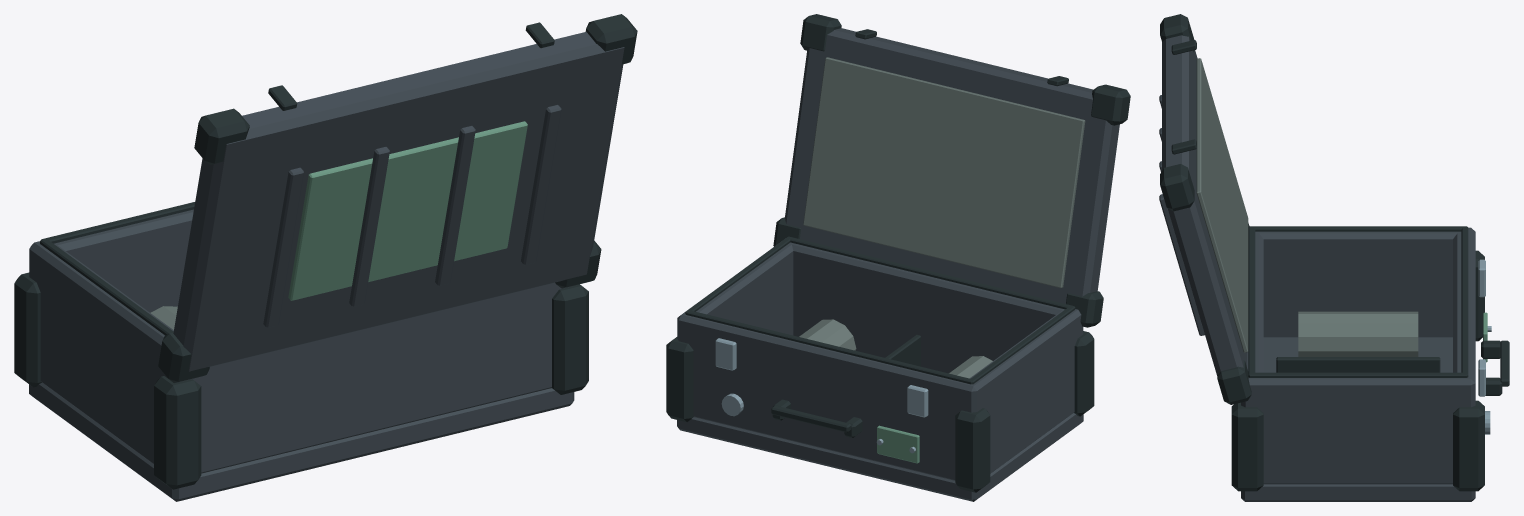
Rendered from diver_equipment_case_opened.glb.
3 views of the same model, side by side, from view 1: azimuth 30°, elevation 25°; view 2: azimuth 150°, elevation 25°; view 3: azimuth 270°, elevation 25° (orthographic). The views are drawn at different scales.
Visible parts, largest first — view 1: moving_lid, body_back_wall, moving_lid_identity, body_side_wall, body_floor, corner_pad (×3), moving_rib (×4), body_front_wall, moving_corner_cap (×3), rim_seal (×2); view 2: moving_lid_pad, body_front_wall, moving_lid, body_back_wall, body_side_wall (×2), corner_pad (×3), body_floor, rim_seal (×4), moving_corner_cap (×3), interior_cylinder_cradle (×2), latch_base (×2), dive_tag_plate (+2 smaller); view 3: body_side_wall (×2), moving_lid, moving_lid_pad, corner_pad (×3), body_floor, interior_cylinder_cradle, rim_seal (×4), moving_corner_cap (×3), body_front_wall, inner_diver_separator, body_back_wall, moving_rib (+1 smaller).
Part boxes in pixels (x1=…): moving_lid: x1=173, y1=31, x2=624, y2=371; body_back_wall: x1=163, y1=282, x2=556, y2=473; moving_lid_identity: x1=288, y1=121, x2=527, y2=300; body_side_wall: x1=29, y1=241, x2=194, y2=463; body_floor: x1=29, y1=382, x2=574, y2=501; corner_pad (×3): x1=14, y1=272, x2=588, y2=489; moving_rib (×4): x1=263, y1=105, x2=561, y2=327; body_front_wall: x1=29, y1=209, x2=193, y2=312; moving_corner_cap (×3): x1=158, y1=14, x2=637, y2=382; rim_seal (×2): x1=40, y1=202, x2=194, y2=334; moving_lid_pad: x1=803, y1=57, x2=1085, y2=287; body_front_wall: x1=679, y1=311, x2=983, y2=480; moving_lid: x1=785, y1=28, x2=1119, y2=303; body_back_wall: x1=781, y1=241, x2=1063, y2=373; body_side_wall (×2): x1=677, y1=242, x2=1083, y2=473; corner_pad (×3): x1=666, y1=331, x2=1094, y2=492; body_floor: x1=677, y1=413, x2=1083, y2=501; rim_seal (×4): x1=685, y1=236, x2=1075, y2=384; moving_corner_cap (×3): x1=800, y1=14, x2=1130, y2=327; interior_cylinder_cradle (×2): x1=799, y1=319, x2=992, y2=378; latch_base (×2): x1=715, y1=338, x2=928, y2=417; dive_tag_plate: x1=877, y1=425, x2=919, y2=463; body_side_wall (×2): x1=1241, y1=227, x2=1475, y2=484; moving_lid: x1=1162, y1=35, x2=1247, y2=375; moving_lid_pad: x1=1196, y1=58, x2=1248, y2=352; corner_pad (×3): x1=1231, y1=250, x2=1484, y2=491; body_floor: x1=1241, y1=337, x2=1475, y2=501; interior_cylinder_cradle: x1=1298, y1=311, x2=1418, y2=356; rim_seal (×4): x1=1248, y1=226, x2=1468, y2=377; moving_corner_cap (×3): x1=1160, y1=14, x2=1251, y2=404; body_front_wall: x1=1453, y1=229, x2=1475, y2=407; inner_diver_separator: x1=1276, y1=357, x2=1440, y2=372; body_back_wall: x1=1246, y1=231, x2=1263, y2=407; moving_rib: x1=1159, y1=194, x2=1204, y2=335.
Size of the model in its own units: 1.47 by 1.44 by 1.31.
